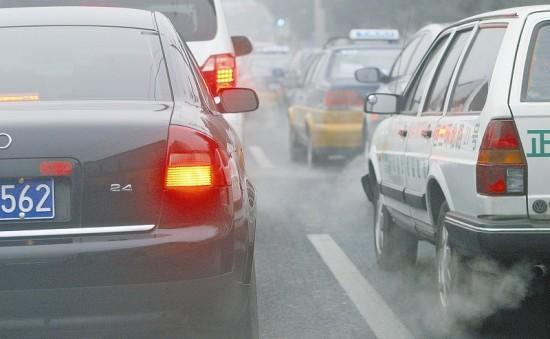car: (1, 6, 260, 339), (1, 1, 245, 249), (363, 3, 550, 325), (352, 20, 547, 200), (286, 26, 441, 168)
